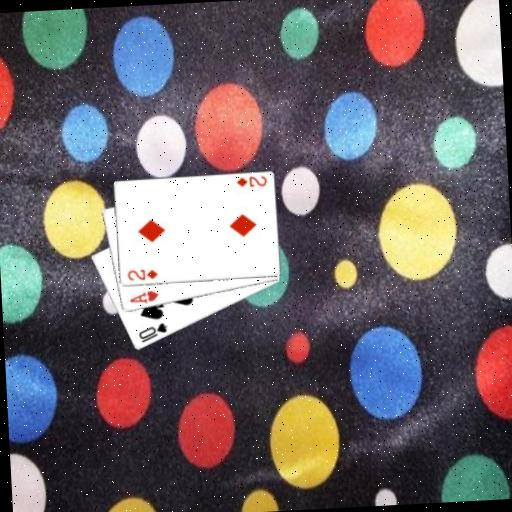10S: (135, 320, 170, 345)
2D: (125, 266, 160, 283), (233, 173, 268, 190)
AH: (126, 288, 160, 307)
